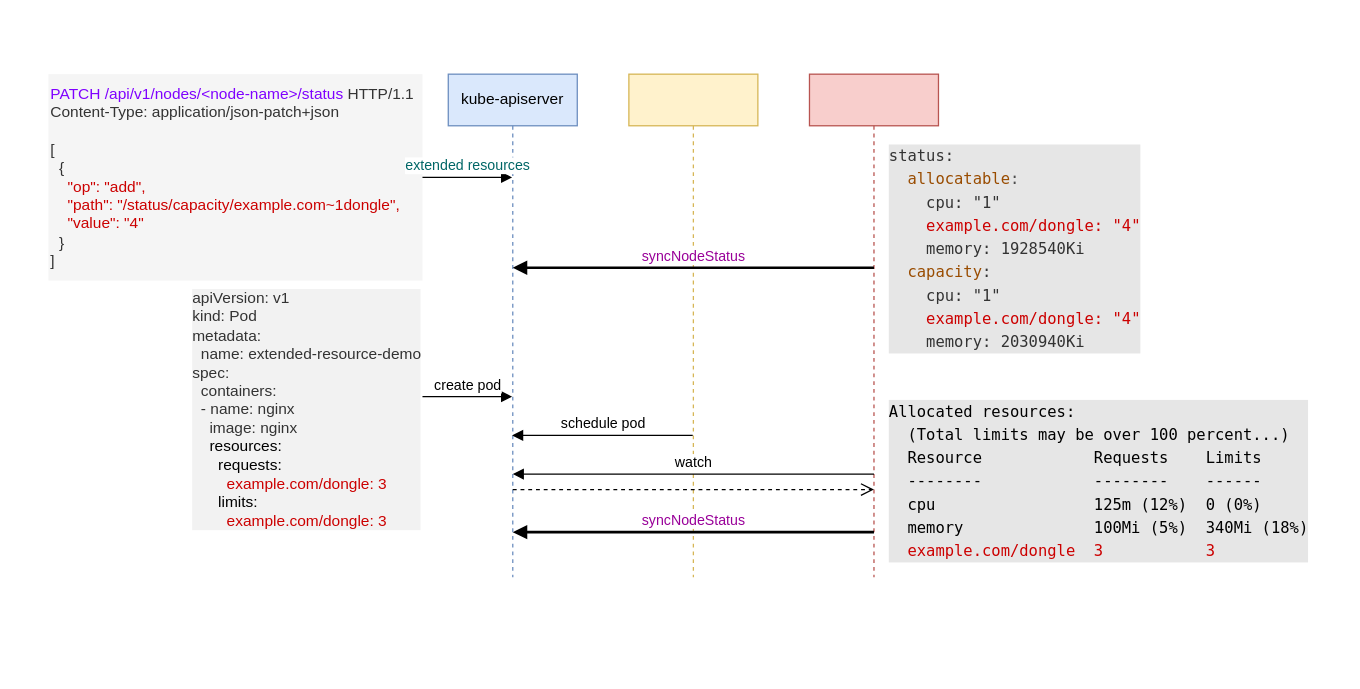
This 1360x689 diagram has some shape labels left out. Each missing label, with the box of its shape:
kubelet: (808, 73, 938, 577)
scheduler: (628, 73, 758, 577)
